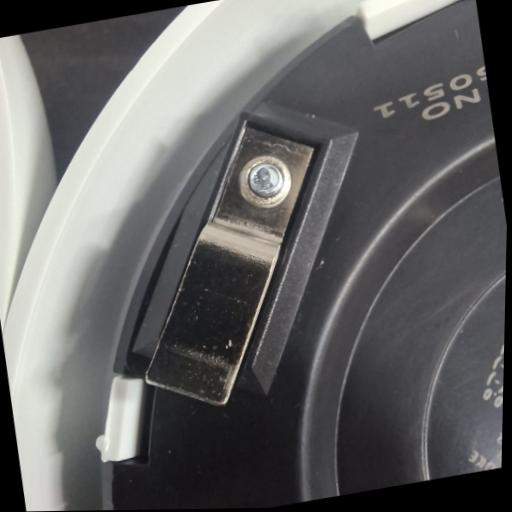yaysiz: (105, 114, 351, 421)
